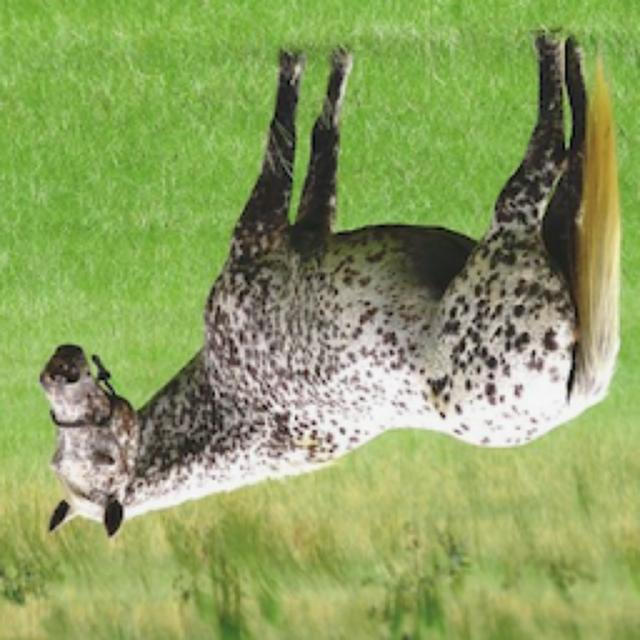Horse: (32, 27, 636, 545)
